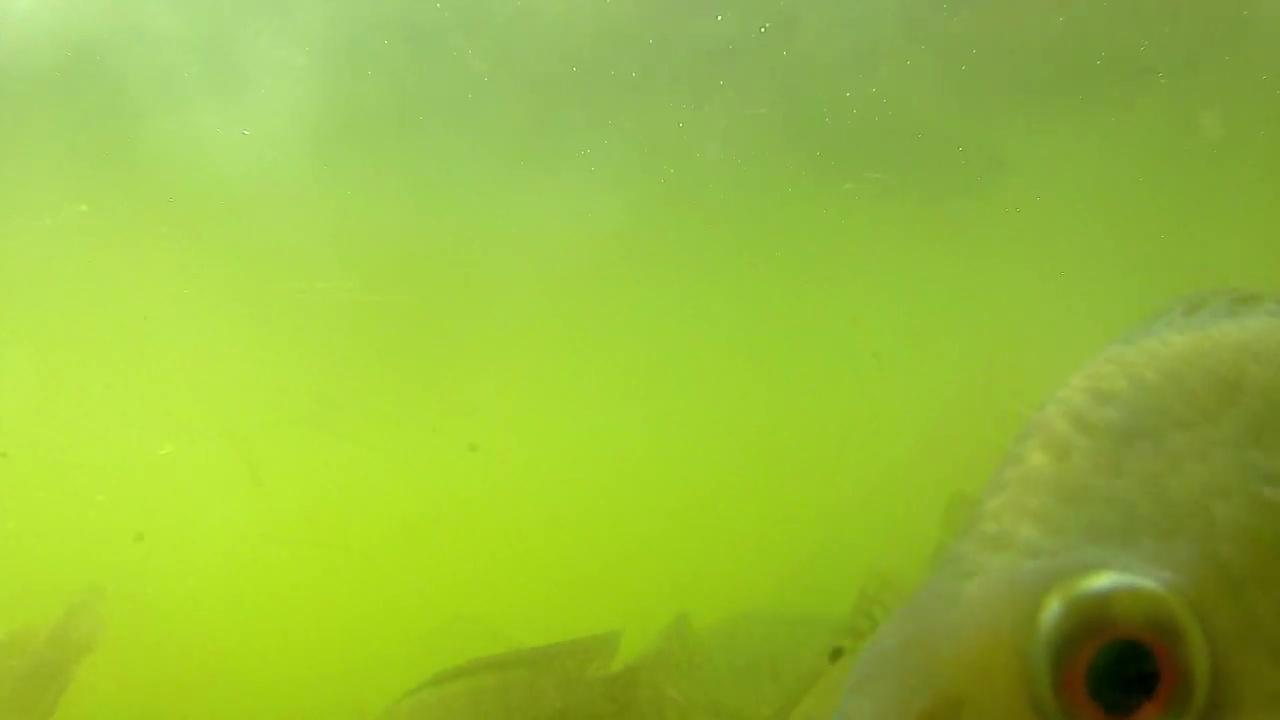Tilapia: (807, 298, 1280, 720)
